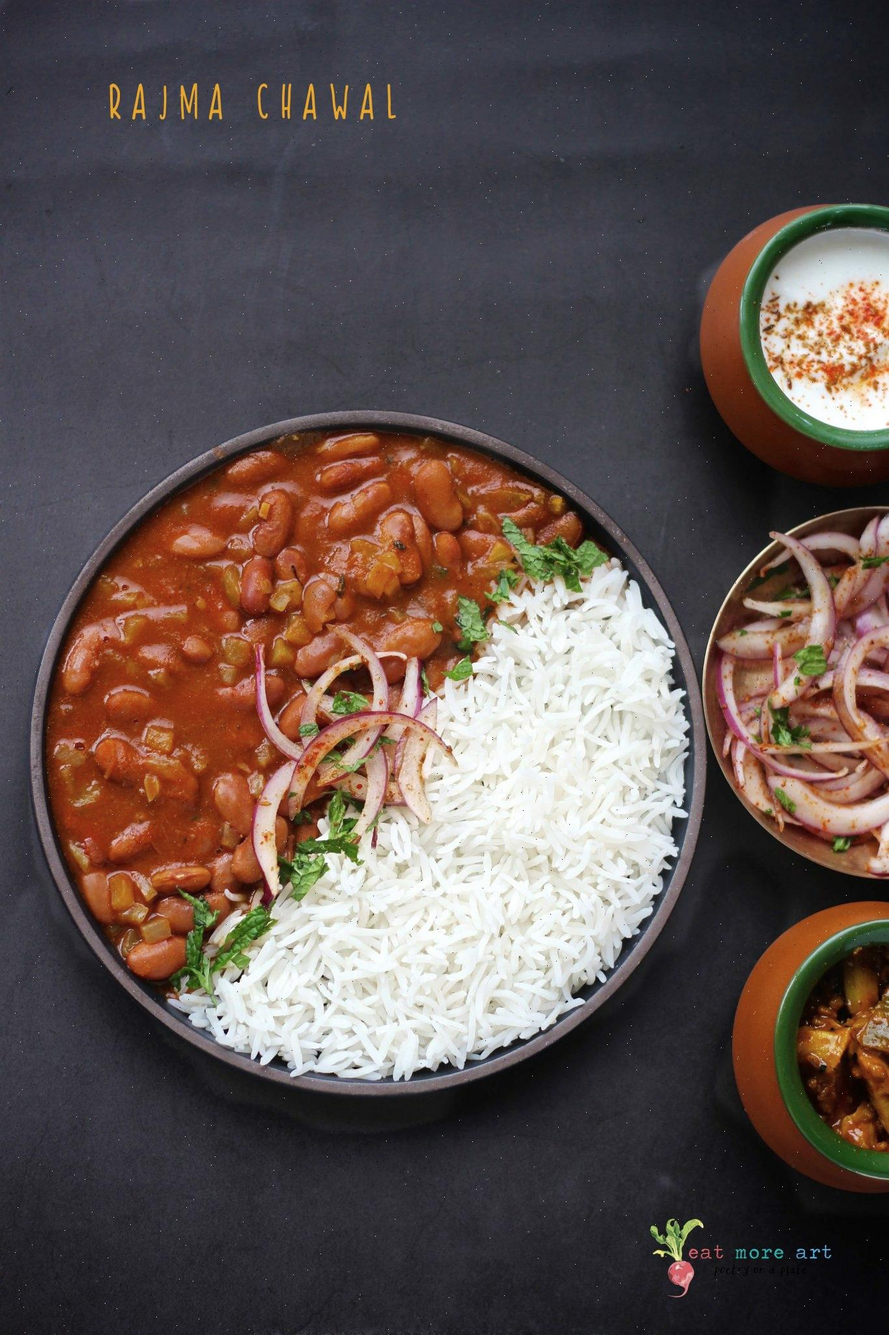rajma: (78, 456, 381, 808)
rice: (404, 750, 723, 1033)
